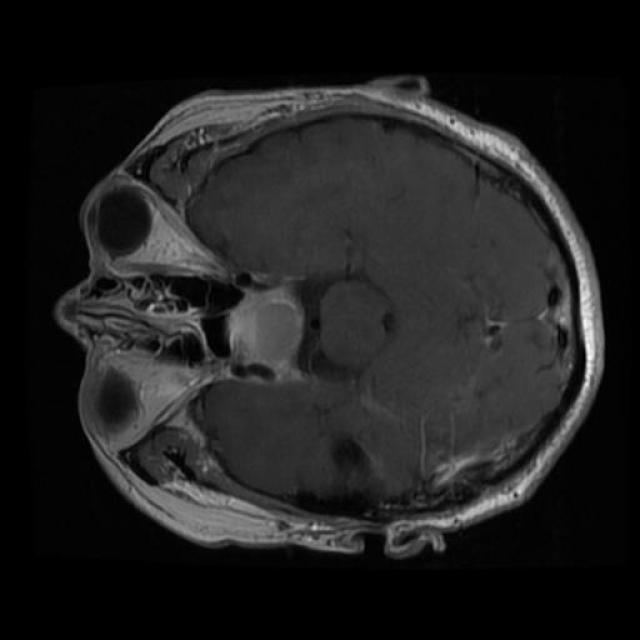Pituitary: (227, 285, 304, 376)
